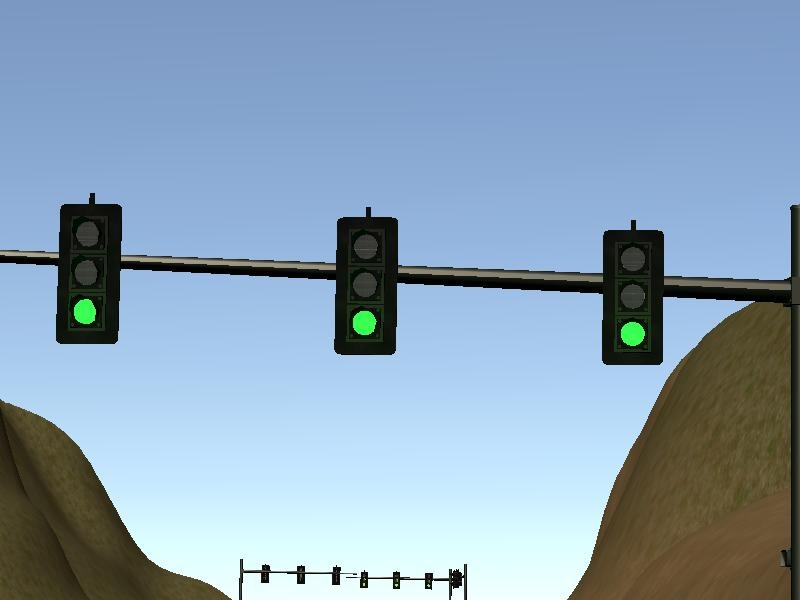green: (53, 200, 120, 350), (333, 215, 401, 356), (601, 228, 666, 368)
